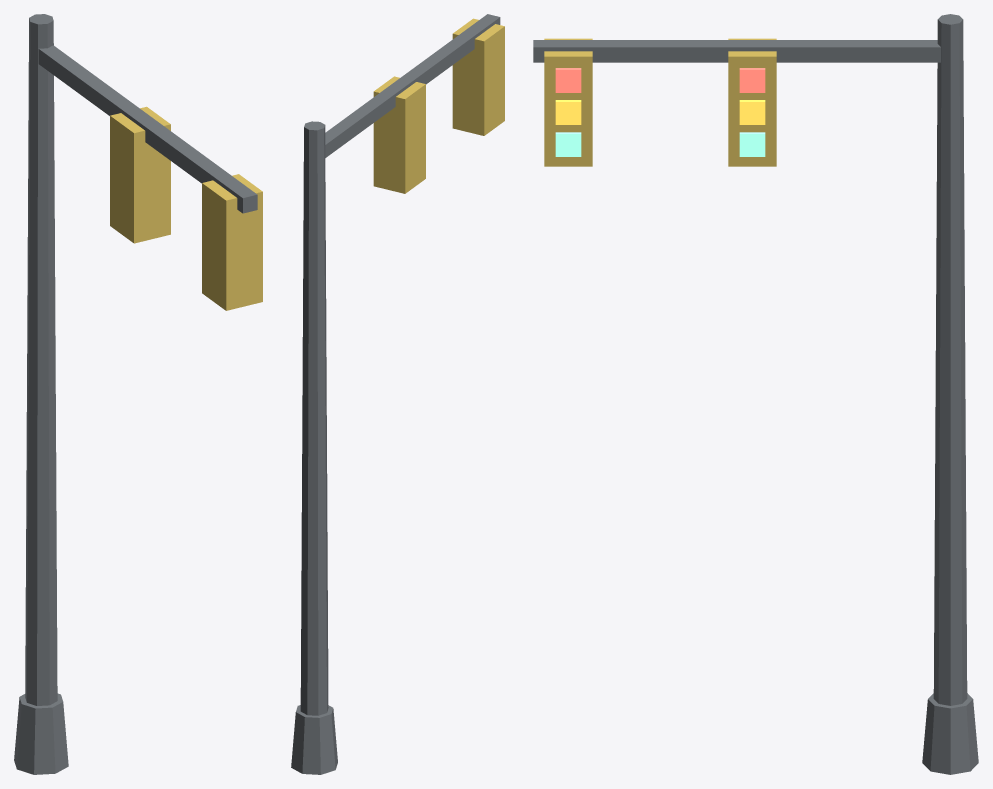
File: prop_traffic_light.glb
3 renders of one model, left to right at view 1: azimuth 30°, elevation 25°; view 2: azimuth 150°, elevation 25°; view 3: azimuth 270°, elevation 25°, orthographic. The views are drawn at different scales.
Visible parts, largest first — view 1: prop_traffic_light; view 2: prop_traffic_light; view 3: prop_traffic_light.
Boxes of the visible parts, x1,y1,x2,y2 form: prop_traffic_light: [14, 14, 262, 774]; prop_traffic_light: [291, 14, 504, 774]; prop_traffic_light: [533, 14, 978, 774].
Bounding box in the file's own units: 0.4 × 5.8 × 3.15.
